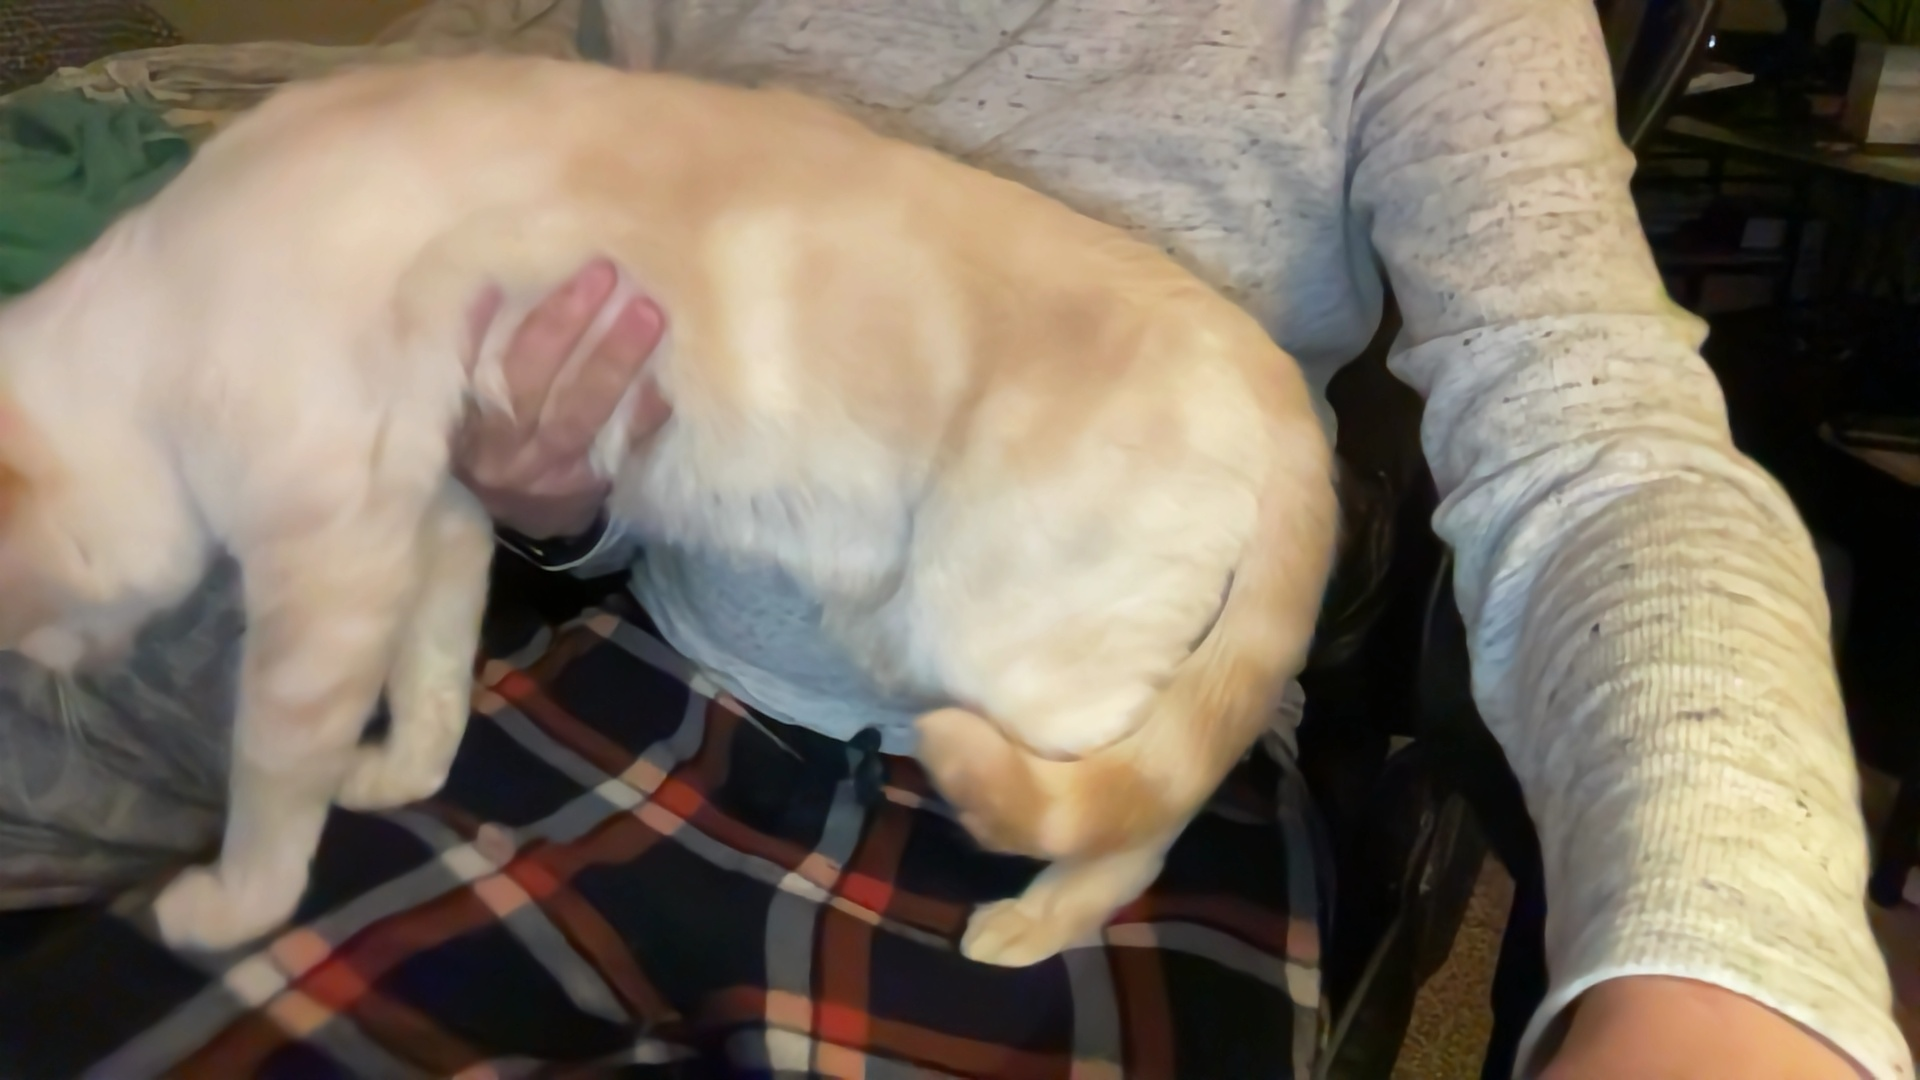cat: (8, 55, 1341, 967)
